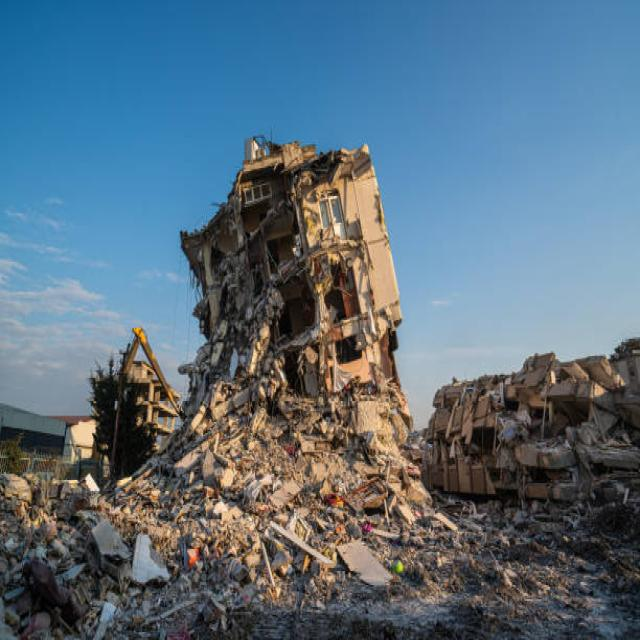Destroyed_building: (34, 3, 590, 640)
